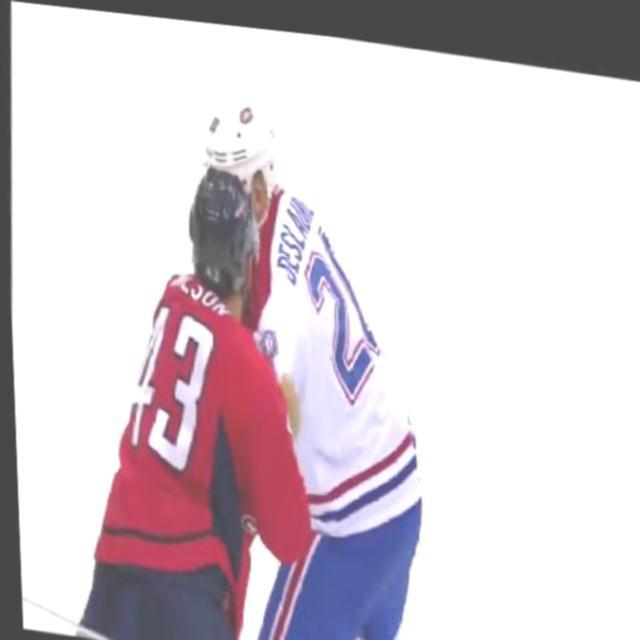fight: (66, 63, 438, 640)
